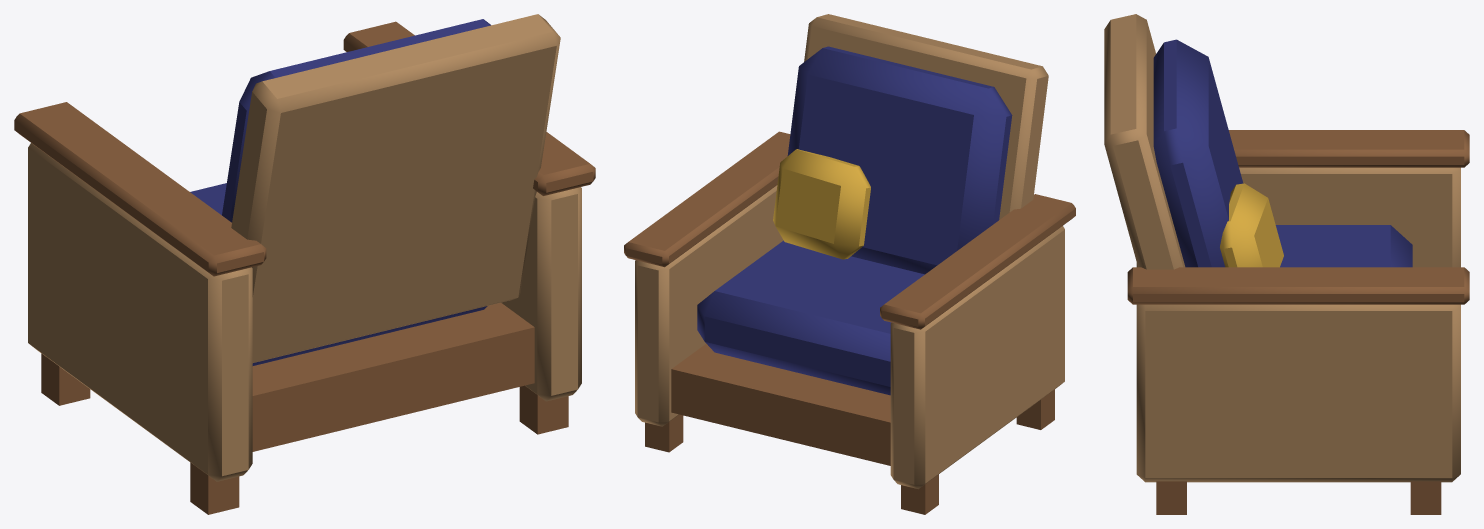
Rendered from seat_reading-chair_v2.glb.
3 renders of one model, left to right at view 1: azimuth 30°, elevation 25°; view 2: azimuth 150°, elevation 25°; view 3: azimuth 270°, elevation 25°, orthographic. The views are drawn at different scales.
Visible parts, largest first — view 1: body; view 2: body; view 3: body.
Boxes of the visible parts, x1,y1,x2,y2 form: body: (14,14,595,514); body: (624,14,1075,514); body: (1104,14,1469,514).
Size of the model in its own units: 0.87 by 0.9275 by 0.8335.
